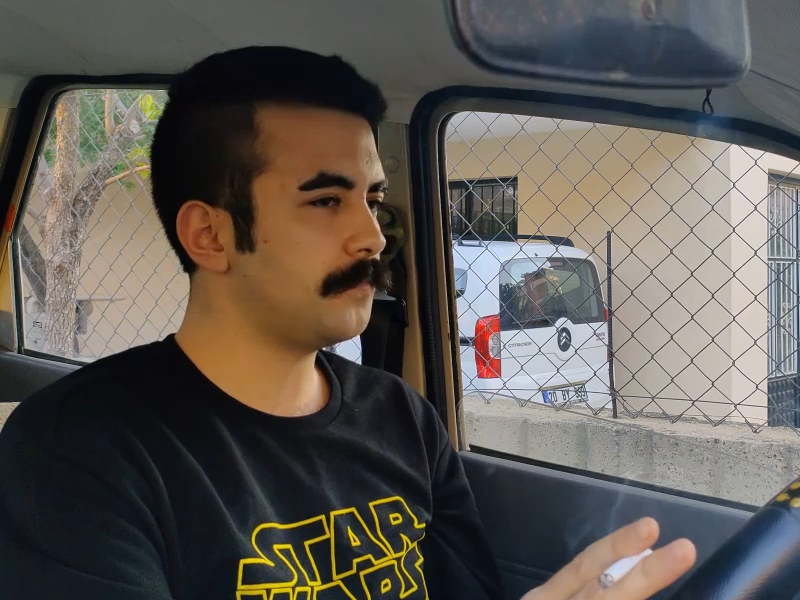sigara: (593, 534, 665, 592)
